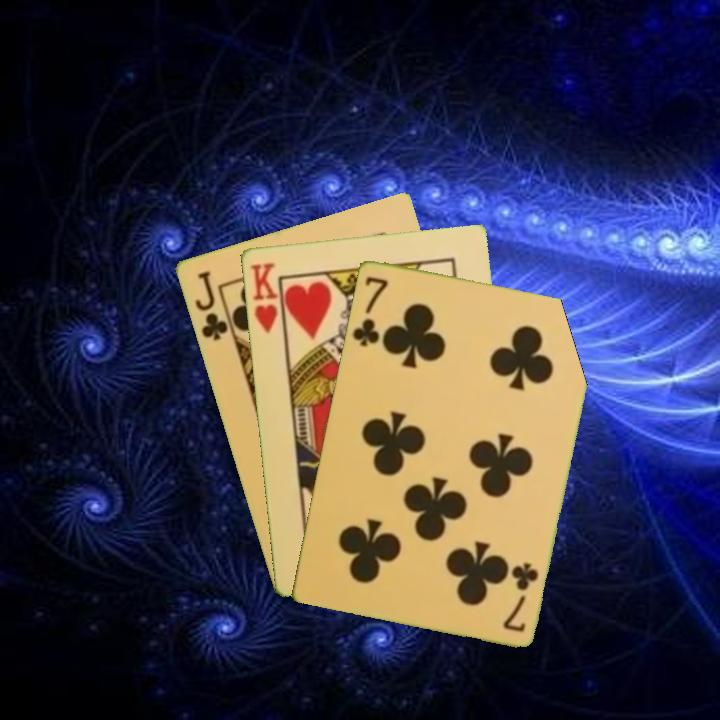7c: (348, 272, 391, 349), (499, 558, 542, 635)
Jc: (191, 267, 230, 343)
Kh: (246, 259, 287, 338)
